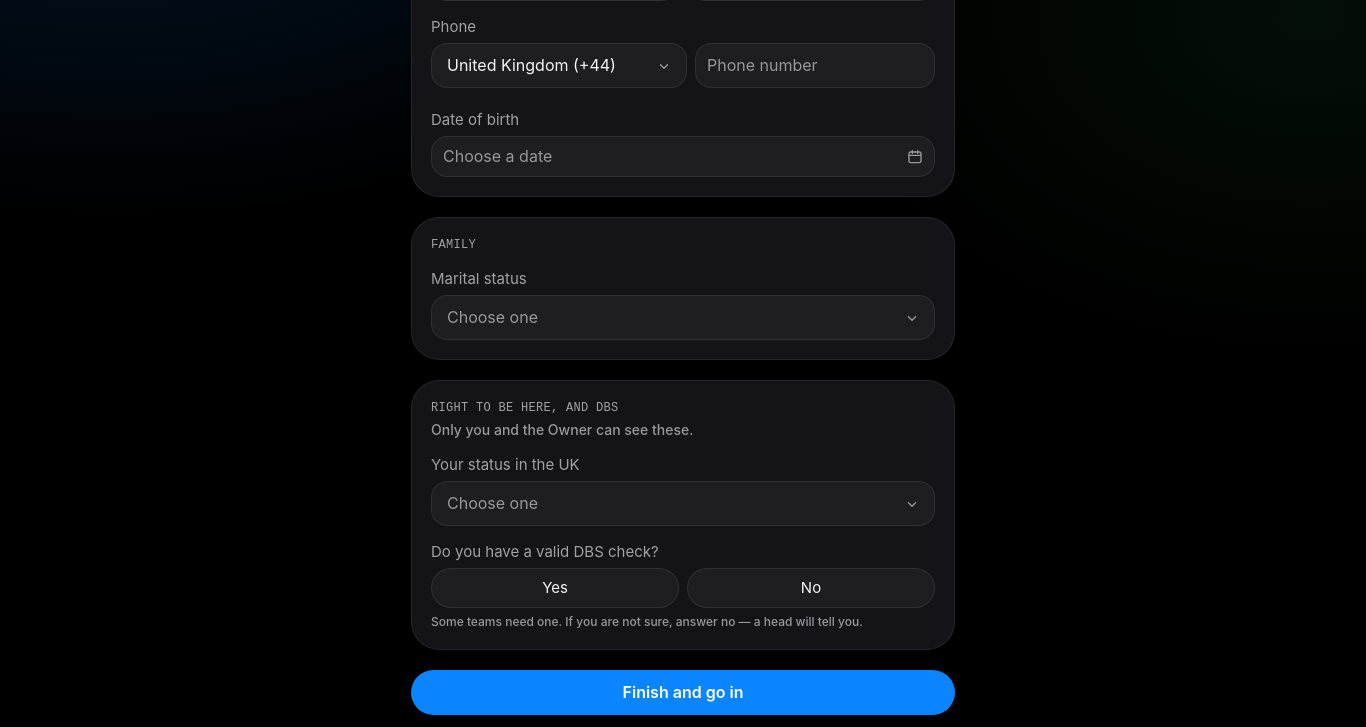
Test case: joining › will not be finished while anything is unanswered
(page scrolled)
Click the button "Finish and go in". click: (683, 692)
box: [411,670,955,715]
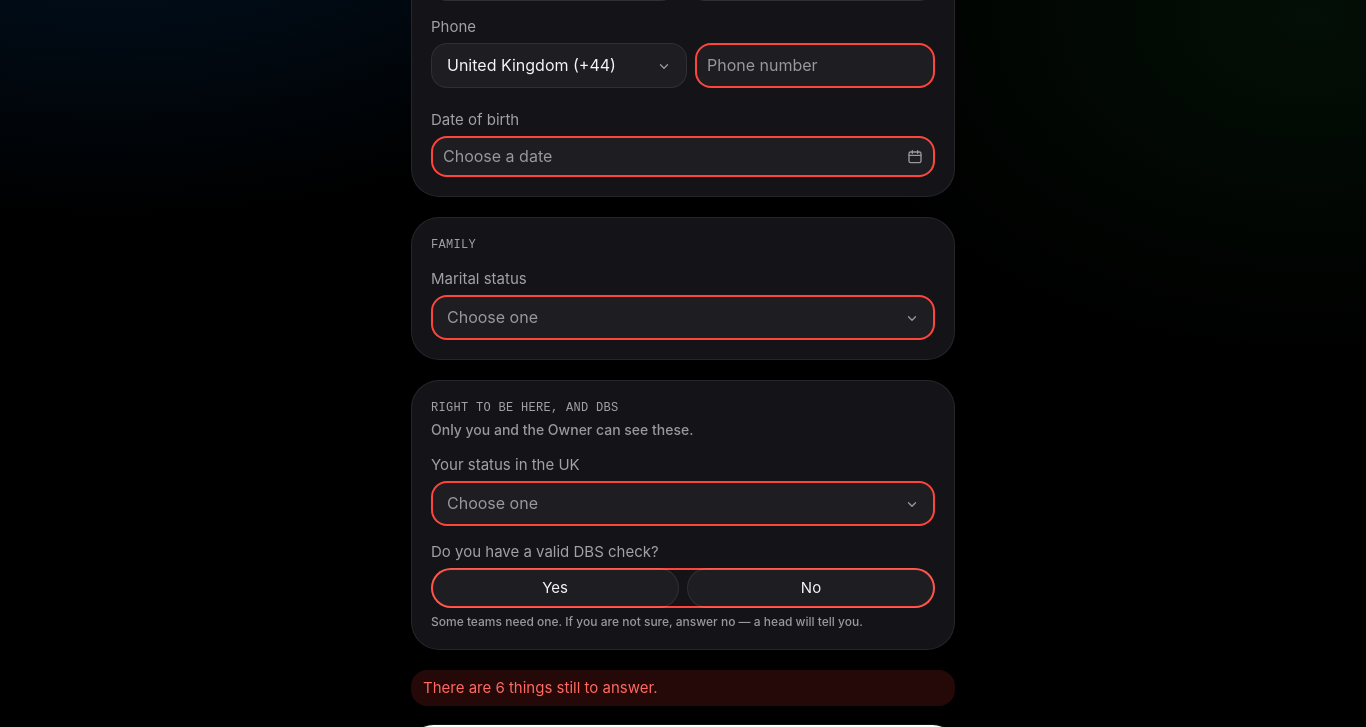
Result: the text "There are 6 things still to answer." is shown at [411,670,955,706]
